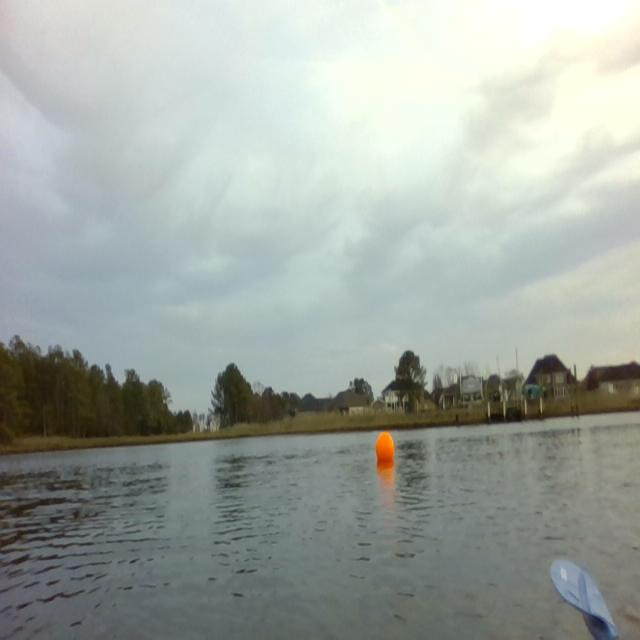Buoy: (376, 430, 395, 466)
